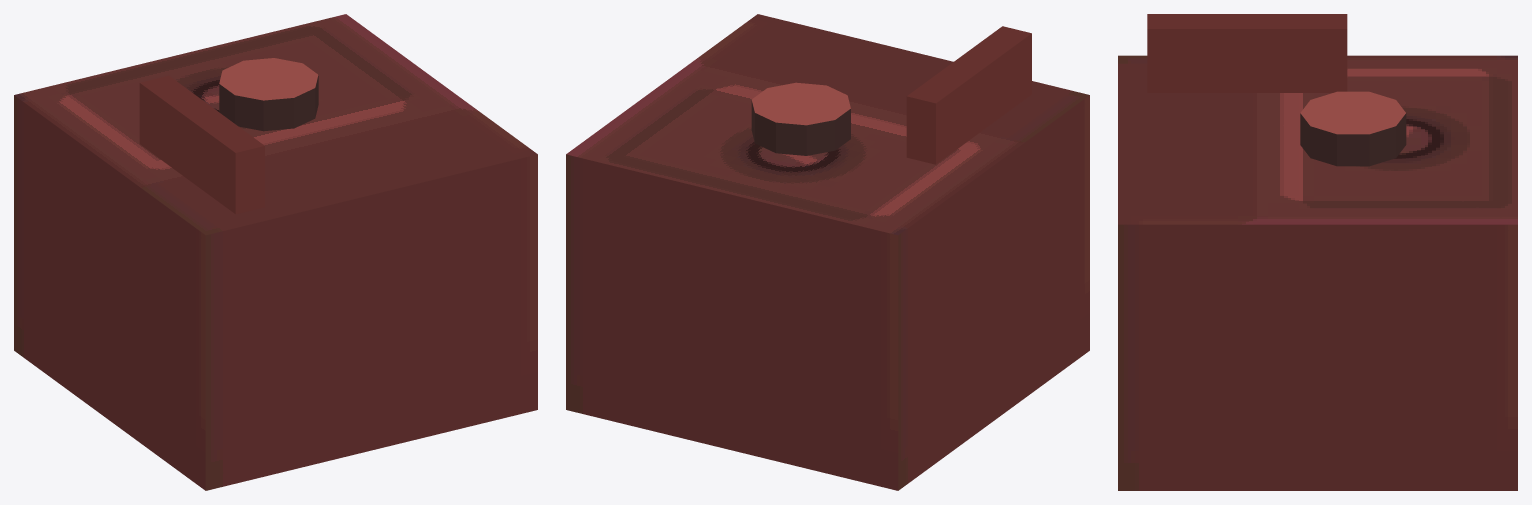
File: Building_AncientChemfuelCanister.glb
The picture shows the model from 3 angles, left to right: view 1: azimuth 30°, elevation 25°; view 2: azimuth 150°, elevation 25°; view 3: azimuth 270°, elevation 25°; orthographic projection. The views are drawn at different scales.
Visible parts, largest first — view 1: AncientChemfuelCanister; view 2: AncientChemfuelCanister; view 3: AncientChemfuelCanister.
Boxes of the visible parts, box(x1,y1,x2,y2) form: AncientChemfuelCanister: box(14, 14, 537, 490); AncientChemfuelCanister: box(566, 14, 1089, 490); AncientChemfuelCanister: box(1118, 14, 1517, 490).
Bounding box in the file's own units: 0.68 × 0.62 × 0.68.
1 material, 1 textured.
